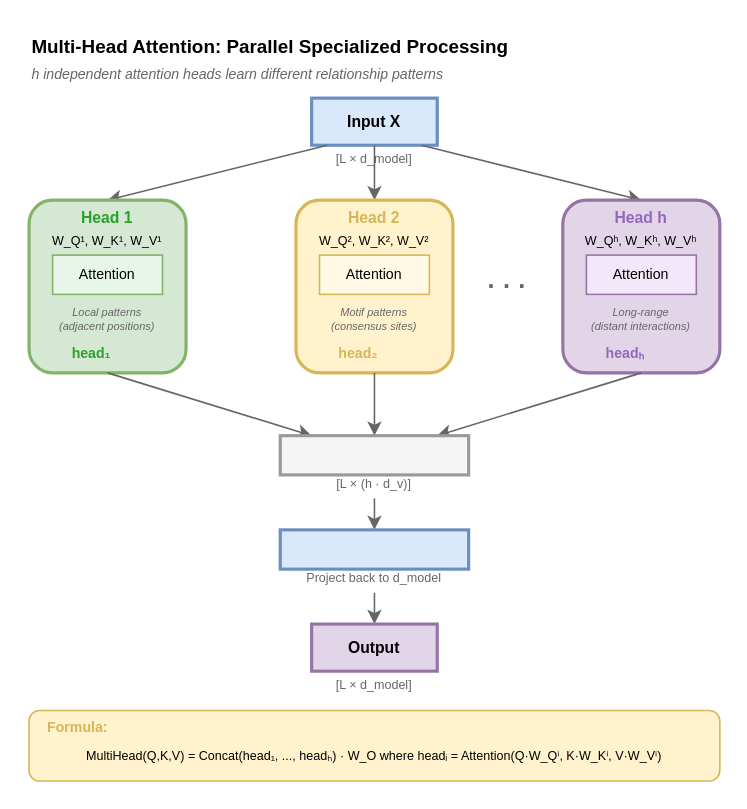
This 747x809 diagram has some shape labels left out. Here are the shapes that lost their labels. From the top down, the centre of each, then its label:
point (373, 454): Concat
point (373, 549): Linear W_O
